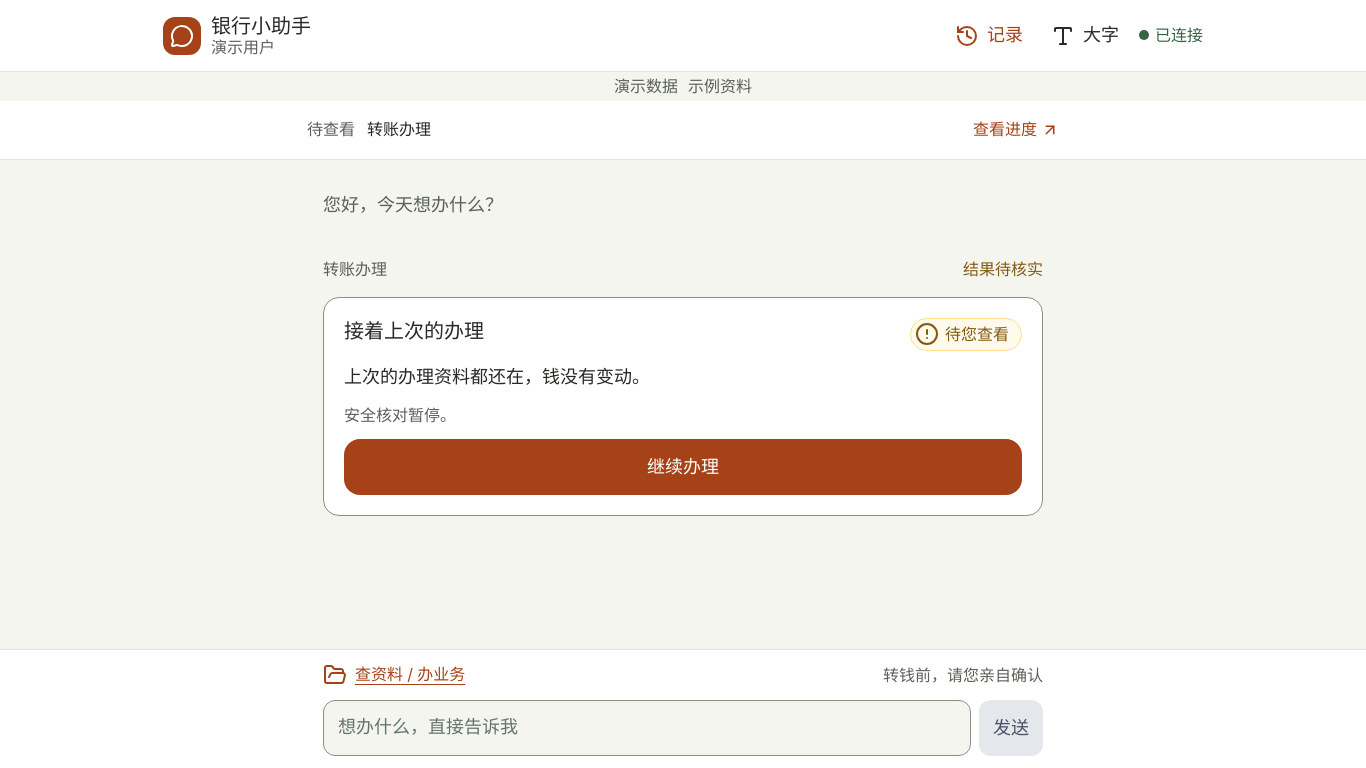
Test: offers a progress view for a paused task instead of promising it can continue
The width and height of the screenshot is (1366, 768).
Expected: the button "待查看 转账办理 查看进度" is shown, [283,101,1083,159]
Click the button "记录": (989, 36) [947,12,1031,60]
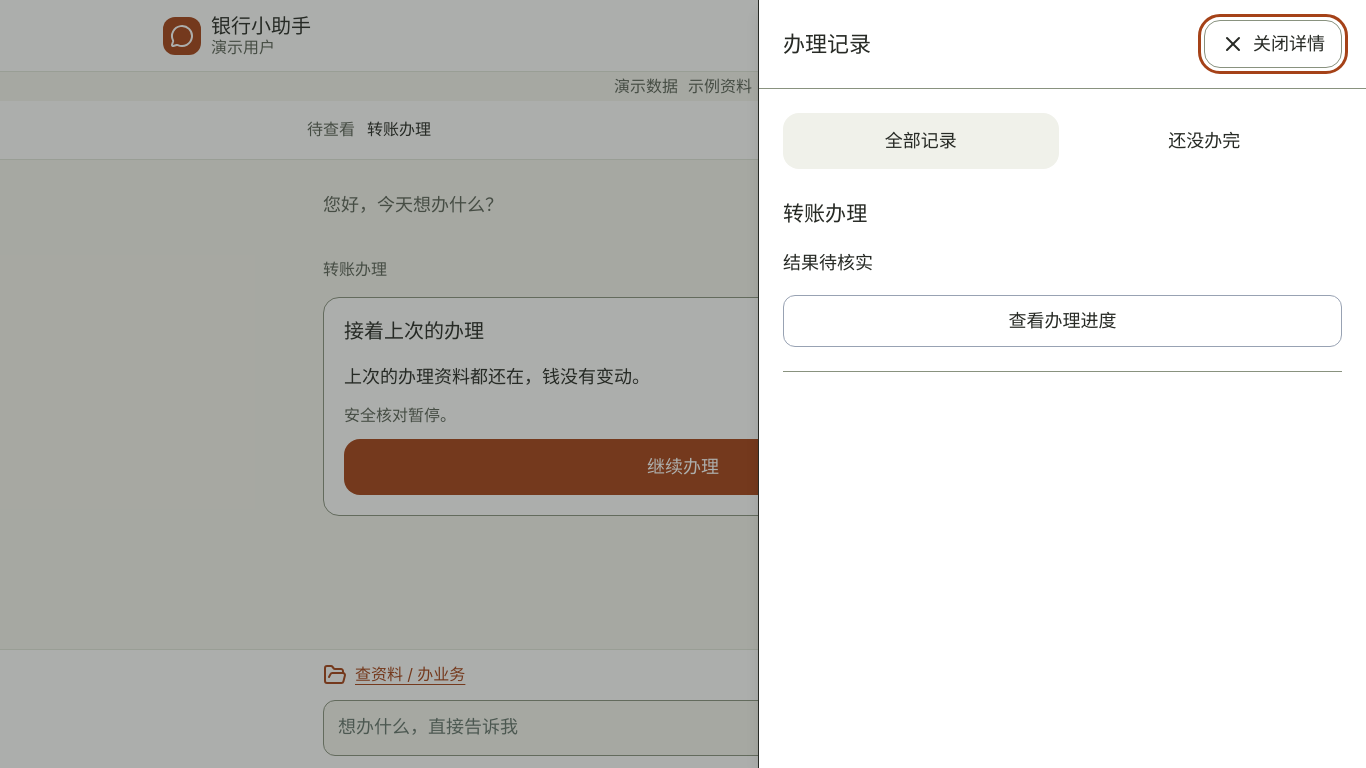
Expected: the button "查看办理进度" is shown, [783,296,1342,348]
